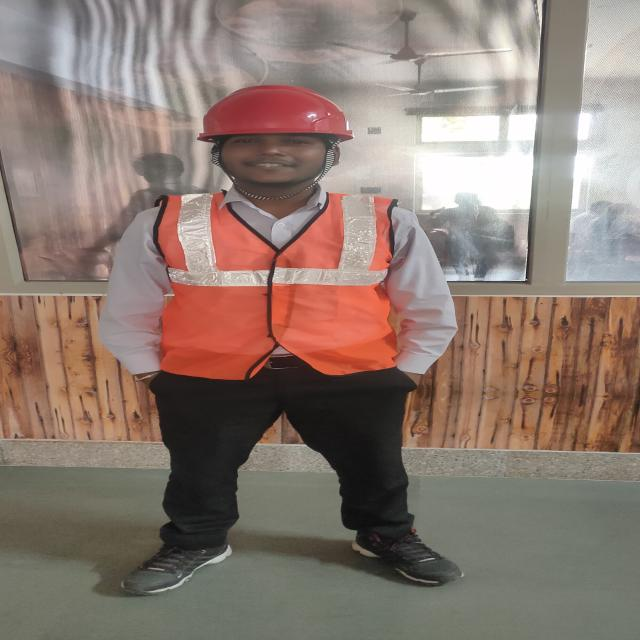safe: (102, 85, 462, 593)
